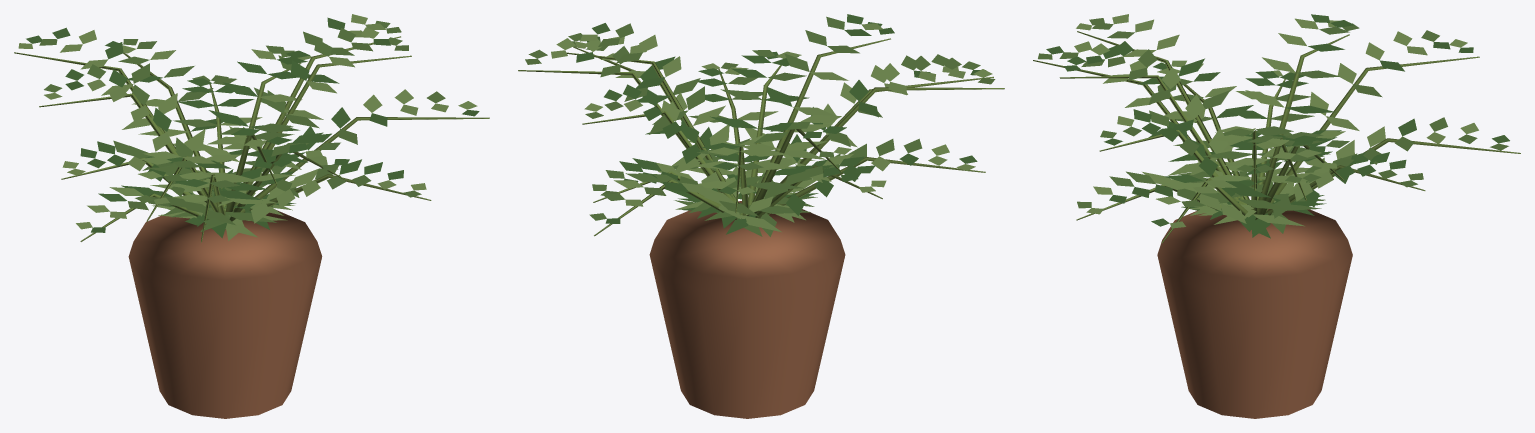
File: potted_fern.glb
The picture shows the model from 3 angles, left to right: view 1: azimuth 30°, elevation 25°; view 2: azimuth 150°, elevation 25°; view 3: azimuth 270°, elevation 25°; orthographic projection.
Parts seen in each view (by area): view 1: veg_potted_fern_lod0; view 2: veg_potted_fern_lod0; view 3: veg_potted_fern_lod0.
Part boxes in pixels (left/top/right/bottom): veg_potted_fern_lod0: left=14, top=14, right=489, bottom=418; veg_potted_fern_lod0: left=518, top=14, right=1004, bottom=418; veg_potted_fern_lod0: left=1033, top=14, right=1520, bottom=418.
Size of what is drawn, in the model's own units: 1.32 by 0.9868 by 1.35.
